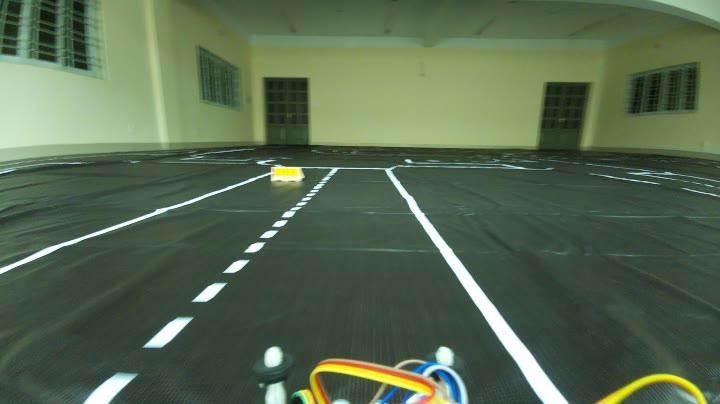roadblock: (265, 158, 308, 182)
